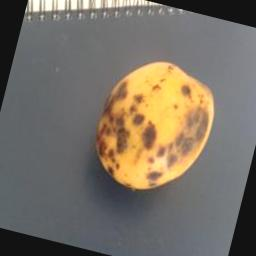Mango Rotten: (74, 47, 230, 210)
